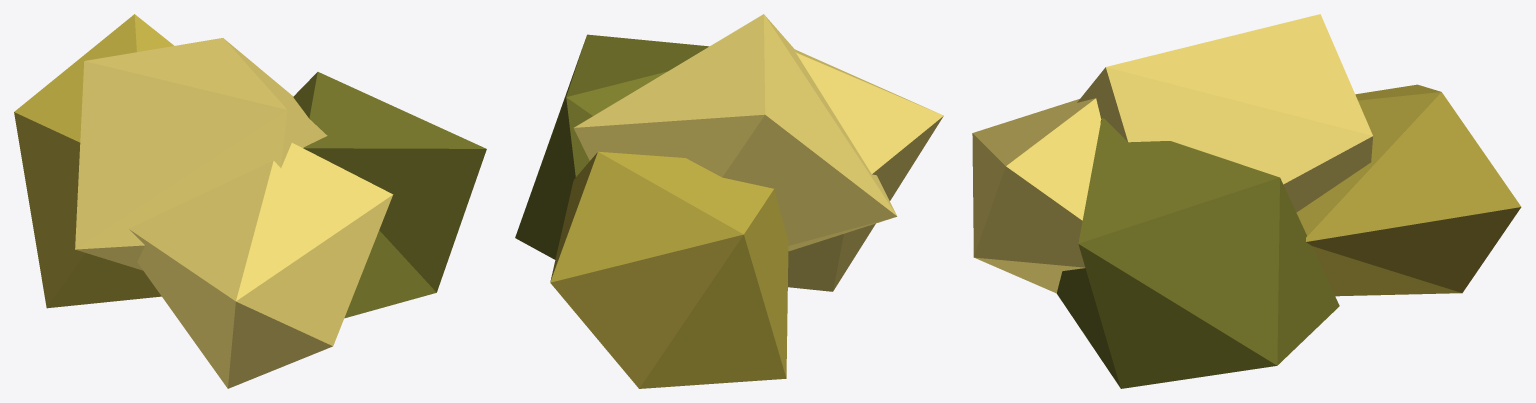
Rendered from bush_4_lod2.glb.
3 renders of one model, left to right at view 1: azimuth 30°, elevation 25°; view 2: azimuth 150°, elevation 25°; view 3: azimuth 270°, elevation 25°, orthographic. The views are drawn at different scales.
Visible parts, largest first — view 1: bush_4_lod2; view 2: bush_4_lod2; view 3: bush_4_lod2.
Part boxes in pixels (bbox=[...]): bush_4_lod2: bbox=[14, 14, 486, 388]; bush_4_lod2: bbox=[515, 14, 943, 388]; bush_4_lod2: bbox=[972, 14, 1521, 388].
Size of the model in its own units: 1.69 by 1.17 by 2.1.
